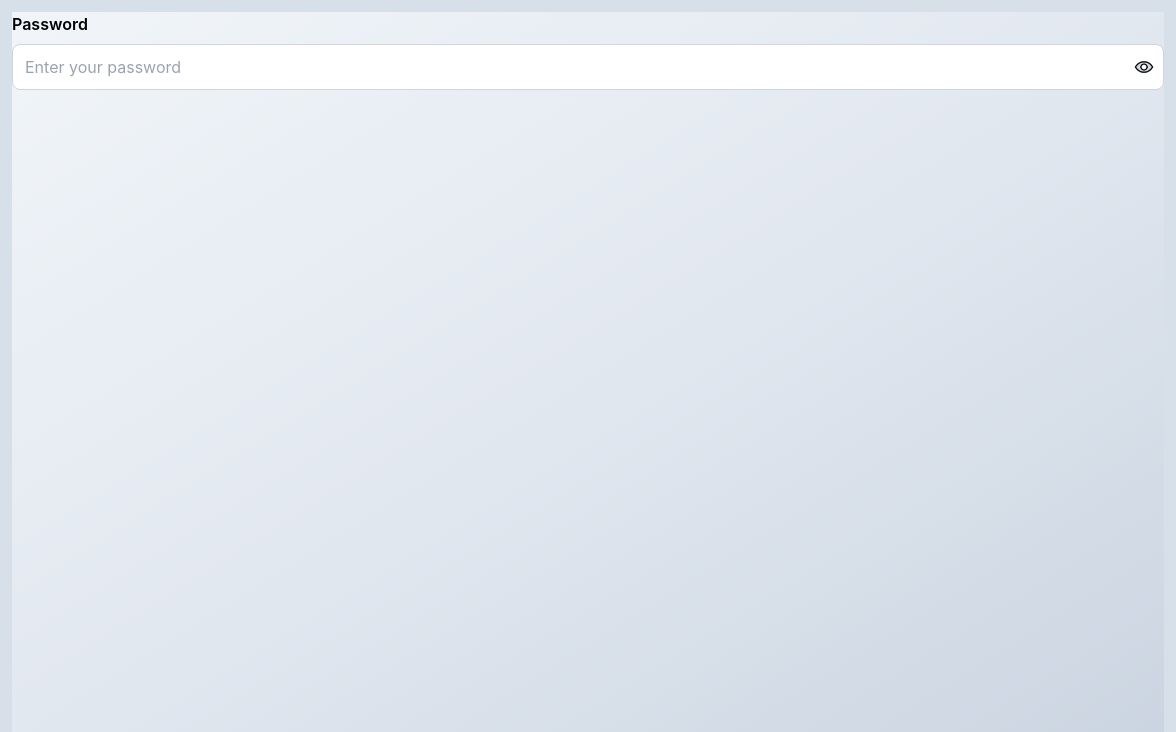
Scenario: PasswordInput Component › shows error for password shorter than 8 characters
Type "Abc@123" into the password field with placeholder "Enter your password" at point(588, 67), box [12,44,1164,90]
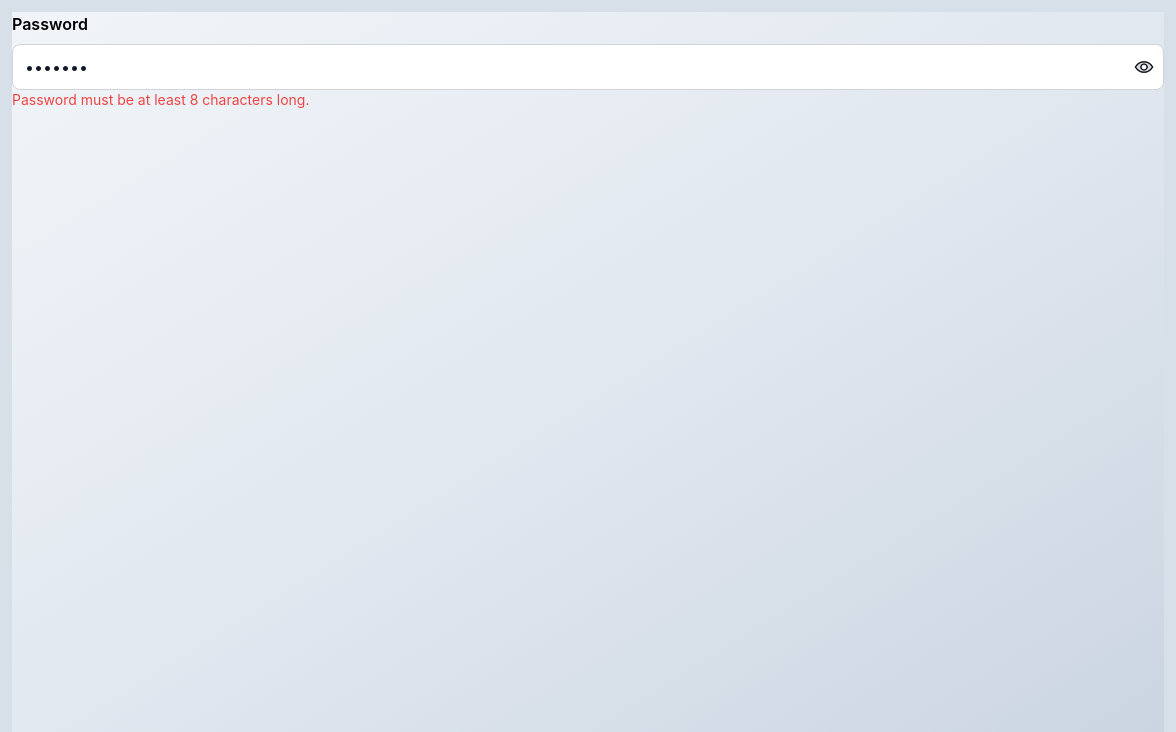
Now the text "Password must be at least 8 characters long." is shown, box [12,91,309,108]
